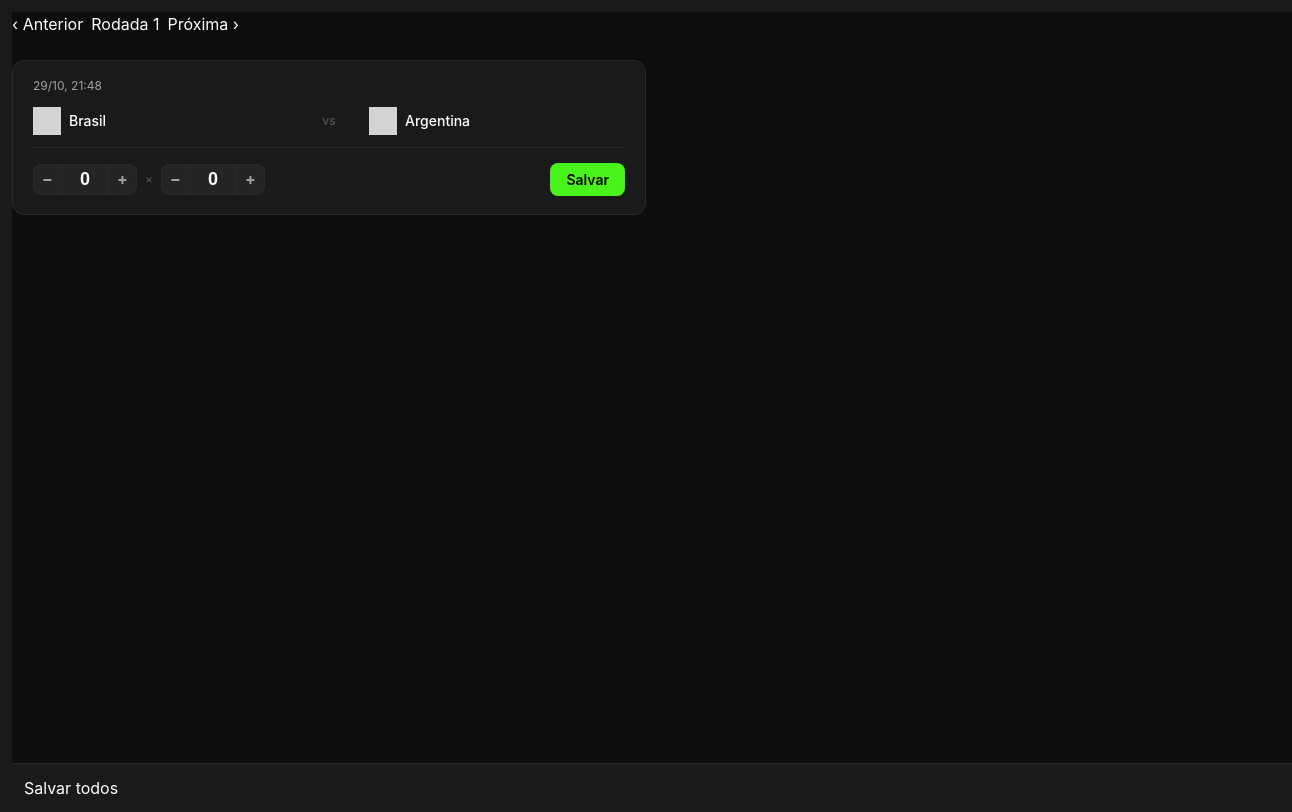
it: feedback after confirmed prediction persistence › does not offer feedback when saving an individual prediction fails
The width and height of the screenshot is (1292, 812).
Click the button "Salvar": coordinates (588, 179) [550,162,625,196]
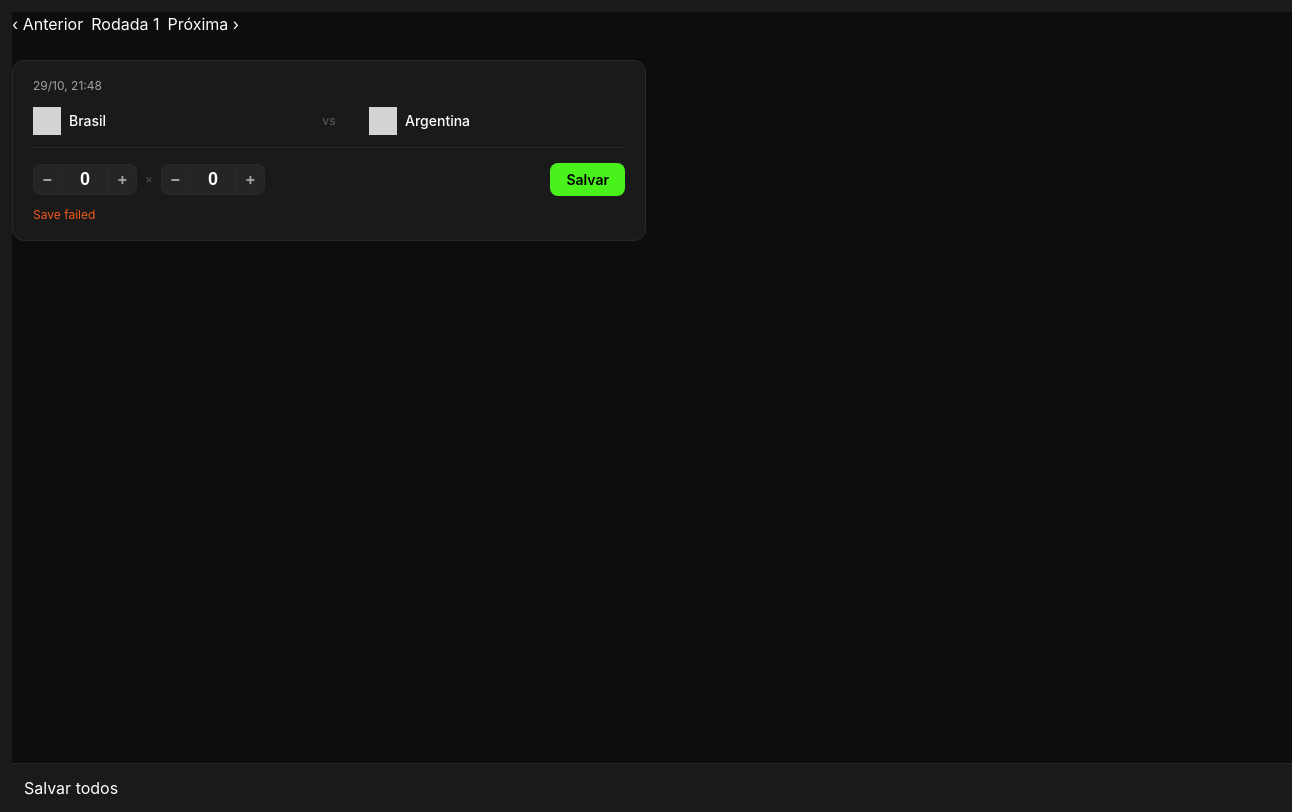
Expected: the text "Save failed" is shown, [33,207,95,222]
